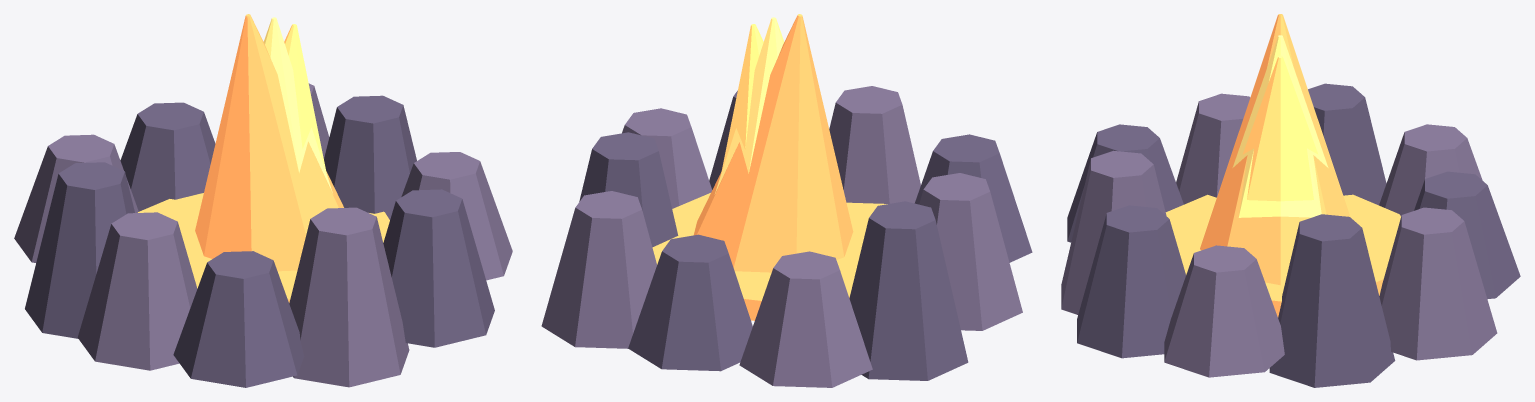
Rendered from ember_geyser.glb.
The picture shows the model from 3 angles, left to right: view 1: azimuth 30°, elevation 25°; view 2: azimuth 150°, elevation 25°; view 3: azimuth 270°, elevation 25°; orthographic projection. The views are drawn at different scales.
Parts seen in each view (by area): view 1: FlameLayer_0.007, BasaltLip_05, BasaltLip_07, BasaltLip_06, BasaltLip_04, BasaltLip_08, BasaltLip_02, BasaltLip_00, BasaltLip_03, BasaltLip_09, WarmPool, FlameLayer_1.007 (+2 smaller); view 2: FlameLayer_0.007, BasaltLip_08, BasaltLip_01, BasaltLip_09, BasaltLip_00, BasaltLip_07, BasaltLip_05, BasaltLip_02, BasaltLip_06, BasaltLip_03, WarmPool, FlameLayer_1.007 (+2 smaller); view 3: BasaltLip_02, BasaltLip_01, BasaltLip_04, BasaltLip_03, FlameLayer_0.007, FlameLayer_2.002, BasaltLip_05, BasaltLip_08, BasaltLip_00, BasaltLip_07, BasaltLip_09, WarmPool (+2 smaller).
Boxes of the visible parts, <box> form: FlameLayer_0.007: <box>195,14,343,271</box>; BasaltLip_05: <box>289,207,409,387</box>; BasaltLip_07: <box>77,212,197,370</box>; BasaltLip_06: <box>173,251,304,387</box>; BasaltLip_04: <box>383,189,494,347</box>; BasaltLip_08: <box>25,162,134,338</box>; BasaltLip_02: <box>324,95,416,219</box>; BasaltLip_00: <box>120,102,215,211</box>; BasaltLip_03: <box>401,152,512,280</box>; BasaltLip_09: <box>14,134,138,262</box>; WarmPool: <box>138,193,389,302</box>; FlameLayer_1.007: <box>263,17,332,193</box>; FlameLayer_0.007: <box>694,14,853,272</box>; BasaltLip_08: <box>849,201,968,380</box>; BasaltLip_01: <box>541,191,656,348</box>; BasaltLip_09: <box>739,251,872,387</box>; BasaltLip_00: <box>628,234,752,371</box>; BasaltLip_07: <box>919,173,1022,330</box>; BasaltLip_05: <box>829,86,920,203</box>; BasaltLip_02: <box>579,132,678,247</box>; BasaltLip_06: <box>914,134,1032,262</box>; BasaltLip_03: <box>622,108,712,208</box>; WarmPool: <box>652,193,887,320</box>; FlameLayer_1.007: <box>714,17,784,194</box>; BasaltLip_02: <box>1269,214,1395,387</box>; BasaltLip_01: <box>1379,207,1497,360</box>; BasaltLip_04: <box>1077,205,1185,358</box>; BasaltLip_03: <box>1164,245,1284,377</box>; FlameLayer_0.007: <box>1200,14,1350,285</box>; FlameLayer_2.002: <box>1242,55,1318,201</box>; BasaltLip_05: <box>1061,150,1166,314</box>; BasaltLip_08: <box>1308,83,1386,205</box>; BasaltLip_00: <box>1414,171,1520,299</box>; BasaltLip_07: <box>1176,93,1250,204</box>; BasaltLip_09: <box>1379,124,1482,216</box>; WarmPool: <box>1165,194,1400,317</box>.
Size of the model in its own units: 5.05 by 3.33 by 5.01.
